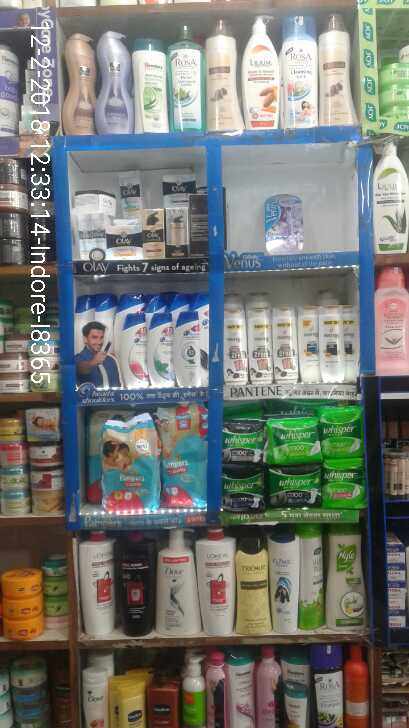venus: (266, 194, 305, 254)
